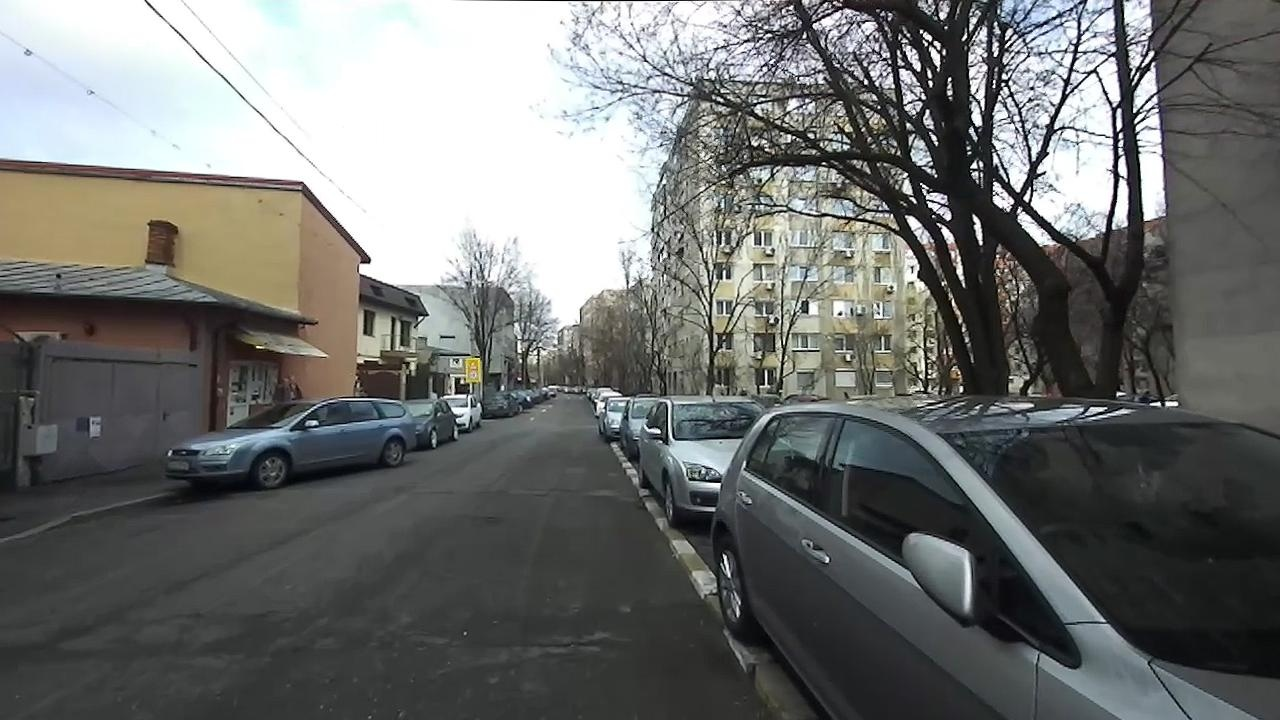pothole: (487, 627, 617, 664), (478, 508, 503, 525)
